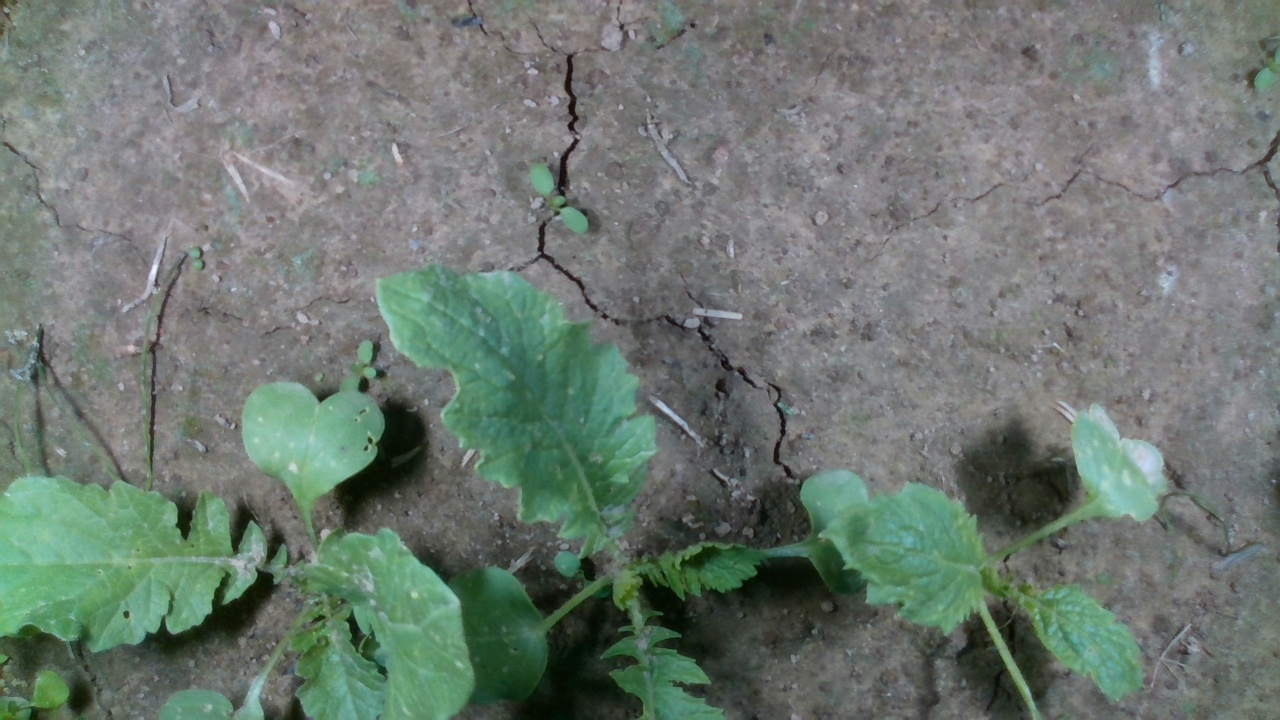weed: (526, 162, 590, 233)
